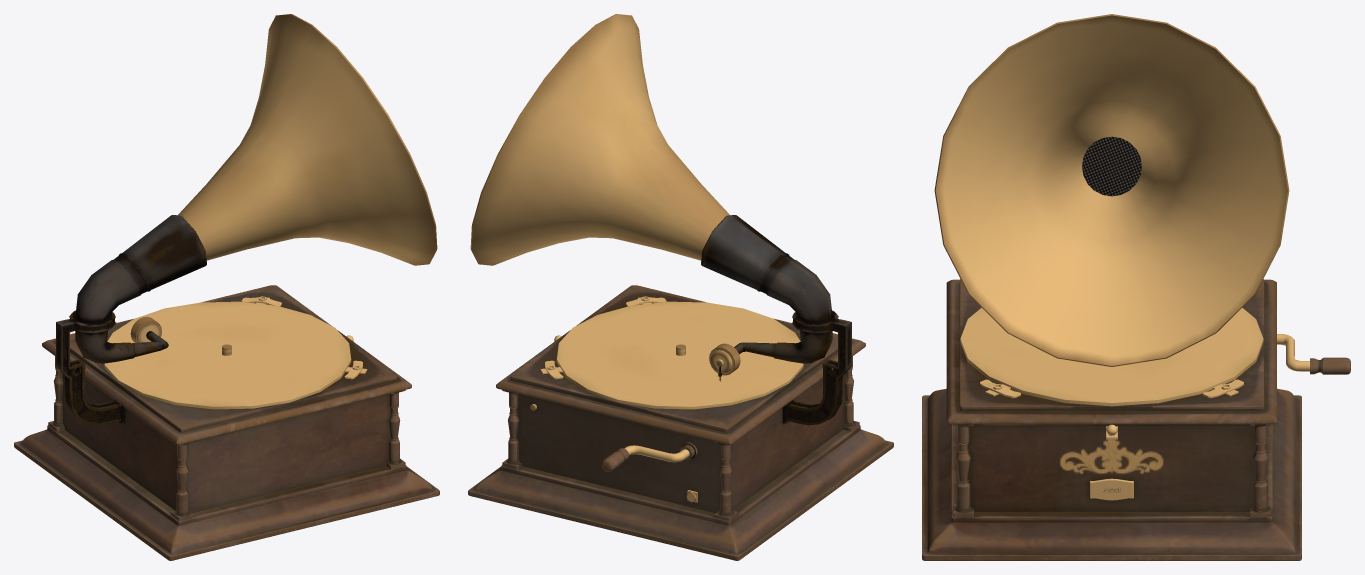
The model's file is gramophone.glb.
3 views of the same model, side by side, from view 1: azimuth 30°, elevation 25°; view 2: azimuth 150°, elevation 25°; view 3: azimuth 270°, elevation 25° (orthographic). The views are drawn at different scales.
Parts seen in each view (by area): view 1: cabinet, horn, platter_mesh, soundbox_mesh; view 2: cabinet, horn, platter_mesh, crank_mesh, soundbox_mesh; view 3: horn, cabinet, platter_mesh, crank_mesh.
Boxes of the visible parts, left/top/right/bottom form: cabinet: left=14, top=285, right=439, bottom=560; horn: left=75, top=14, right=437, bottom=363; platter_mesh: left=104, top=301, right=351, bottom=409; soundbox_mesh: left=130, top=316, right=161, bottom=342; cabinet: left=468, top=285, right=893, bottom=560; horn: left=470, top=14, right=832, bottom=363; platter_mesh: left=556, top=301, right=803, bottom=409; crank_mesh: left=602, top=442, right=697, bottom=471; soundbox_mesh: left=709, top=343, right=740, bottom=381; horn: left=934, top=14, right=1289, bottom=366; cabinet: left=922, top=279, right=1301, bottom=560; platter_mesh: left=960, top=307, right=1263, bottom=406; crank_mesh: left=1277, top=334, right=1350, bottom=374.
Size of the model in its own units: 0.4405 by 0.5322 by 0.4003.
1 material, 1 textured.
